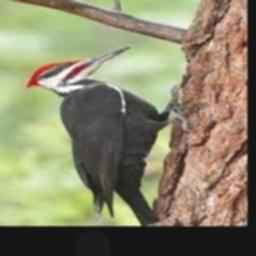Woodpecker: (26, 45, 201, 225)
